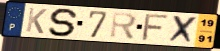7: (87, 10, 108, 39)
F: (139, 14, 171, 43)
K: (24, 6, 49, 35)
R: (108, 11, 139, 42)
S: (47, 7, 81, 38)
X: (166, 14, 199, 46)
